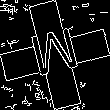M_S: (26, 25, 84, 85)
